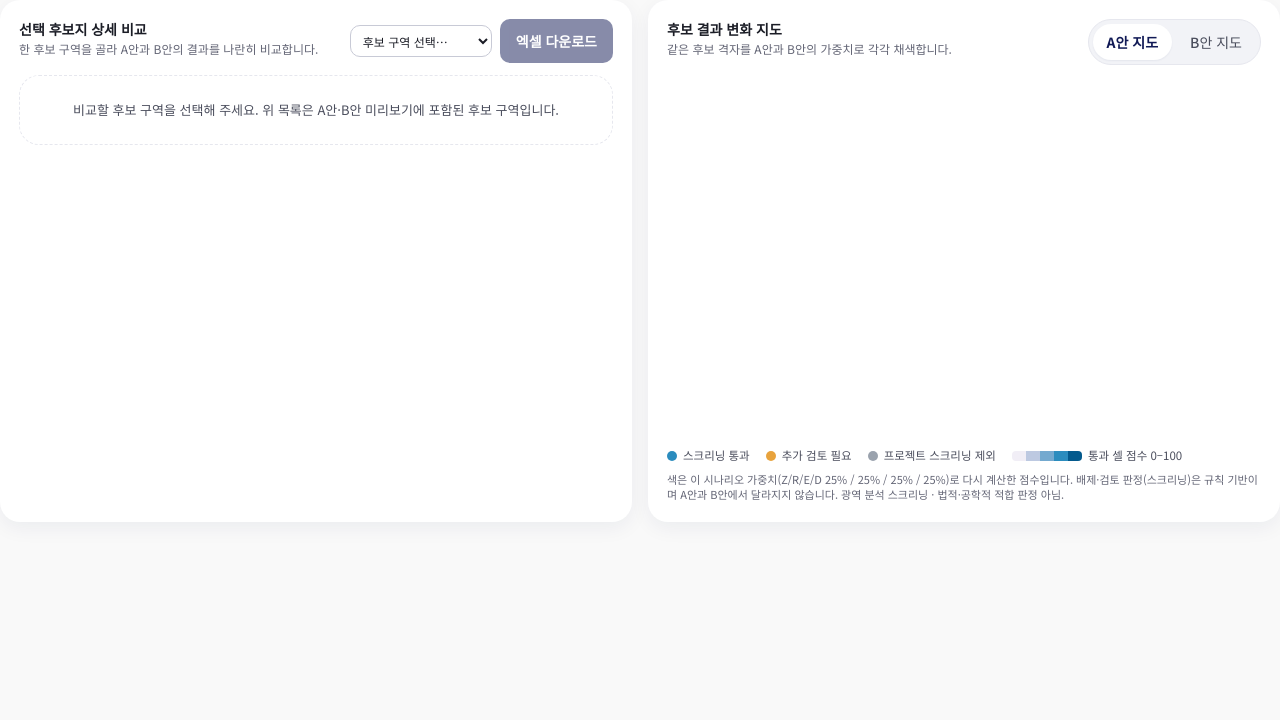
Test: contribution comparison › withholds the table when one side's detail failed, and names the failure
The width and height of the screenshot is (1280, 720).
Select "시흥시 · CELL-0011" in the dropdown with test id "scenario-candidate-picker". click: (421,41)
box: left=350, top=25, right=492, bottom=57
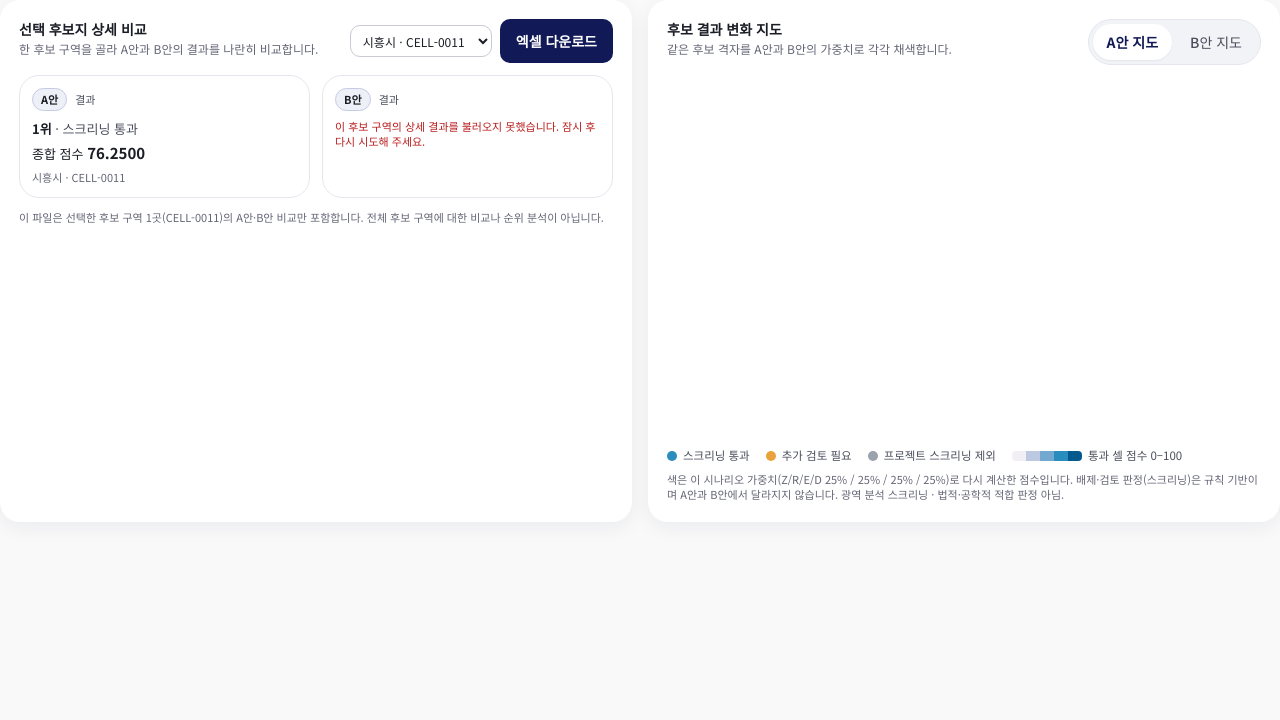
Check: the text "이 후보 구역의 상세 결과를 불러오지 못했습니다. 잠시 후 다시 시도해 주세요." is shown, box left=335, top=118, right=600, bottom=149
